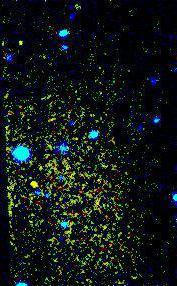star: (19, 170, 49, 200)
